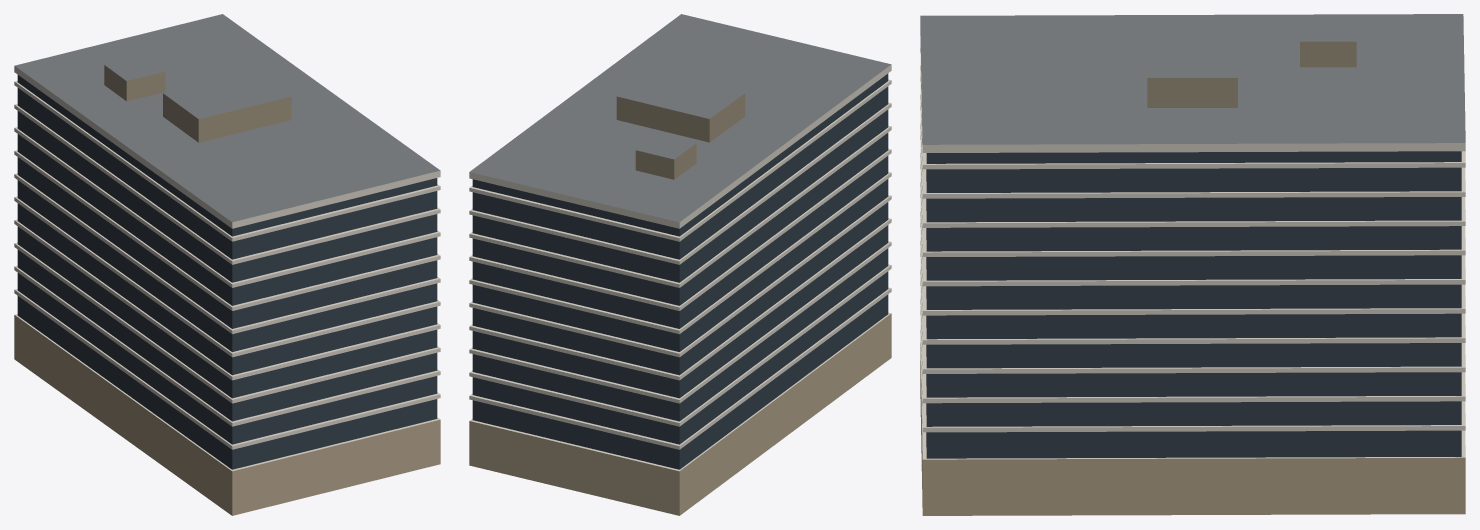
Rendered from aztec_condominium.glb.
3 views of the same model, side by side, from view 1: azimuth 30°, elevation 25°; view 2: azimuth 150°, elevation 25°; view 3: azimuth 270°, elevation 25° (orthographic). The views are drawn at different scales.
Visible parts, largest first — view 1: Aztec_Condominium; view 2: Aztec_Condominium; view 3: Aztec_Condominium.
Part boxes in pixels (box(x1,y1,x2,y2)): Aztec_Condominium: box(14, 14, 440, 515); Aztec_Condominium: box(469, 14, 891, 515); Aztec_Condominium: box(920, 14, 1465, 515).
Bounding box in the file's own units: 27.38 × 39.1 × 48.22.
